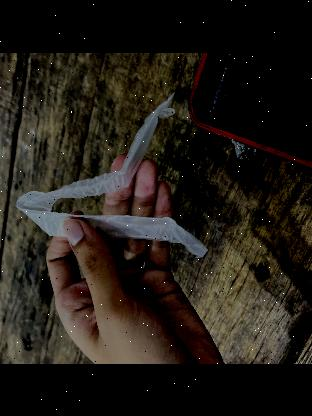Others: (11, 92, 207, 250)
